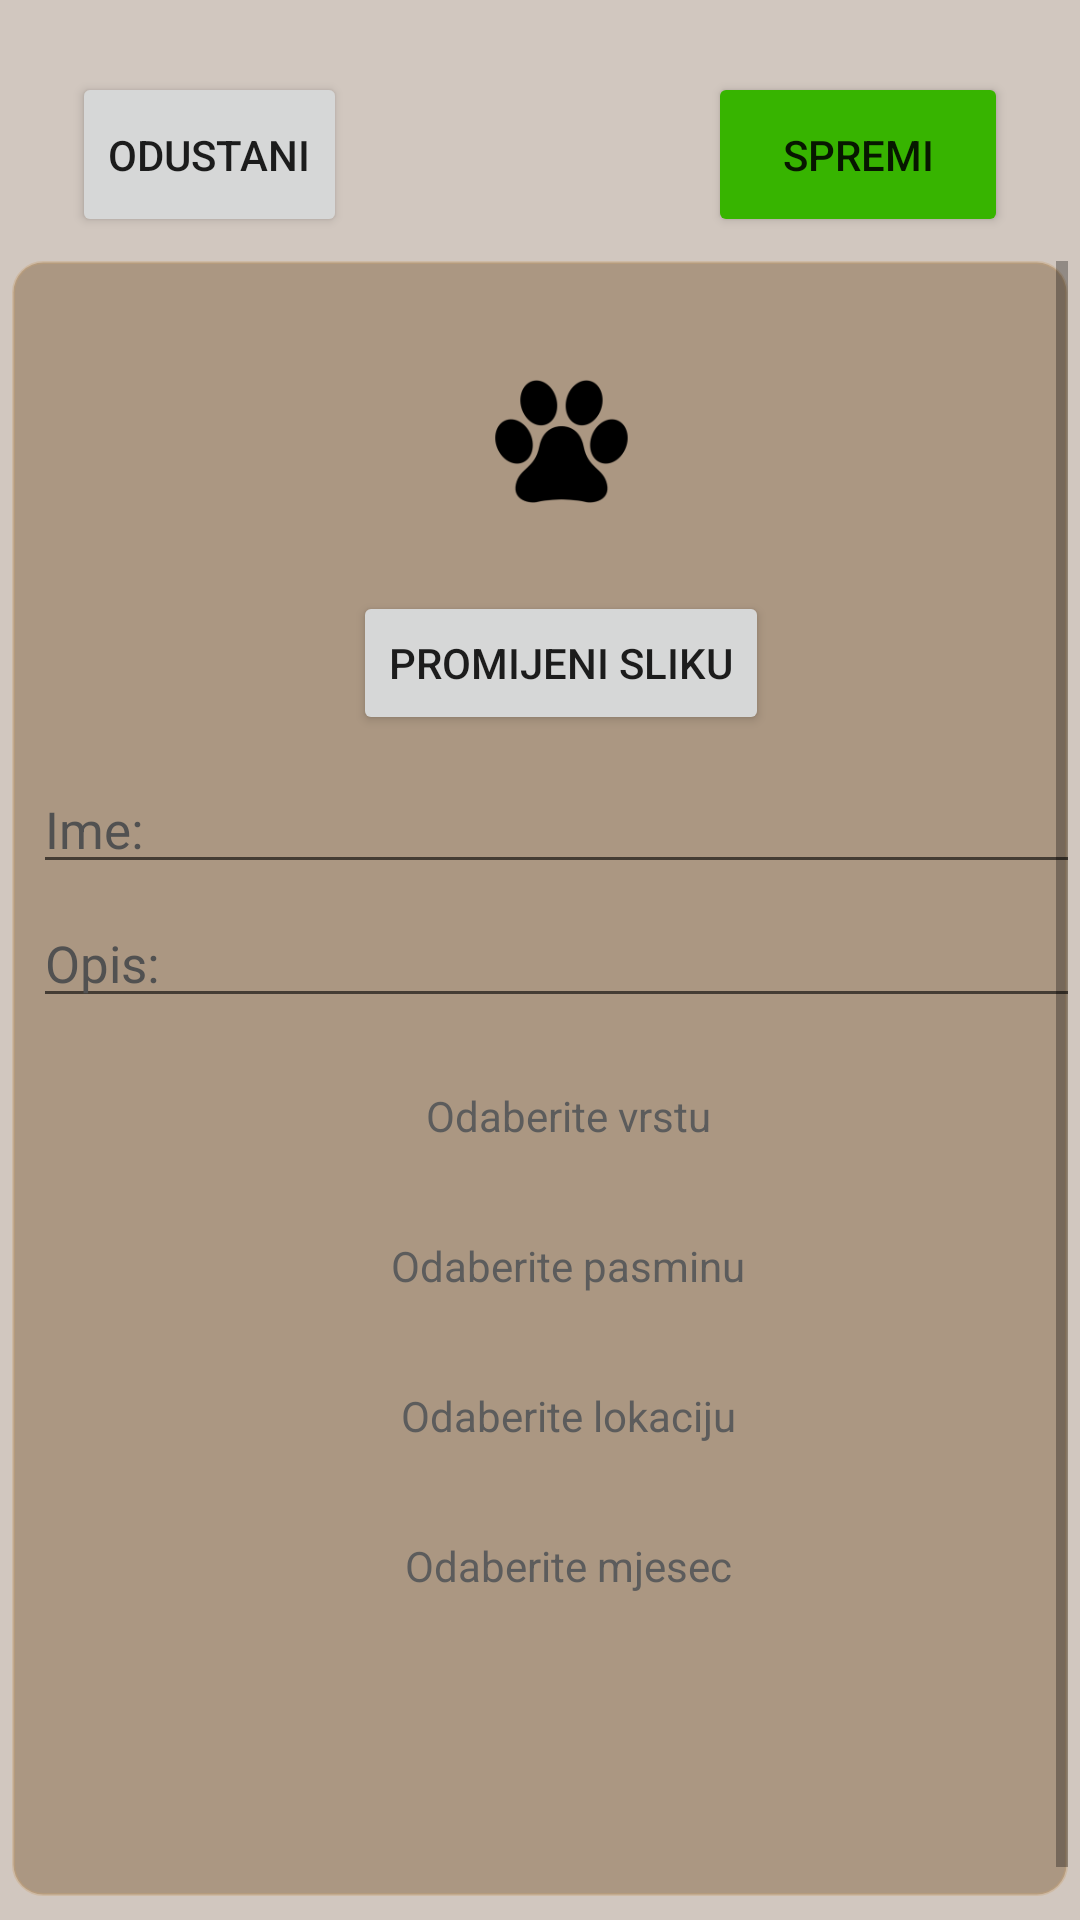

Where icons sit on this 1080w x 1920h app screen, as (x1, y1, x2, y2):
paw: (495, 380, 628, 503)
